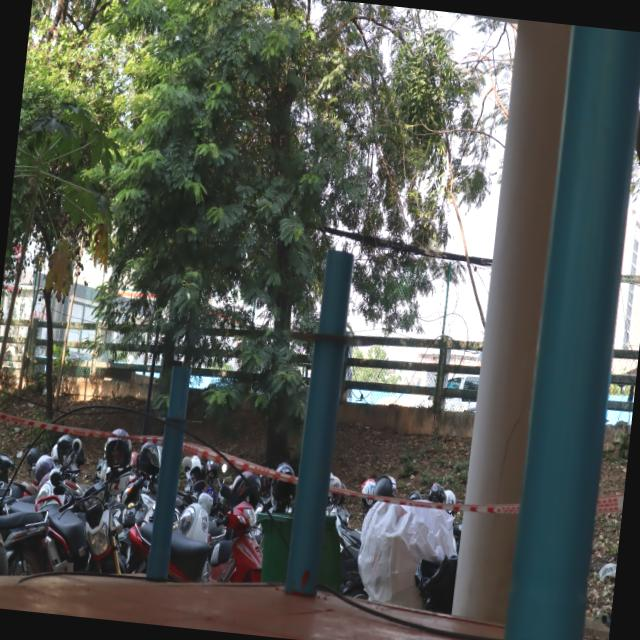pole: (283, 248, 382, 402), (143, 359, 214, 465)
